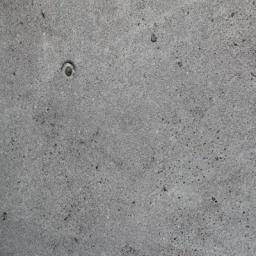FOD: (61, 62, 79, 81)
